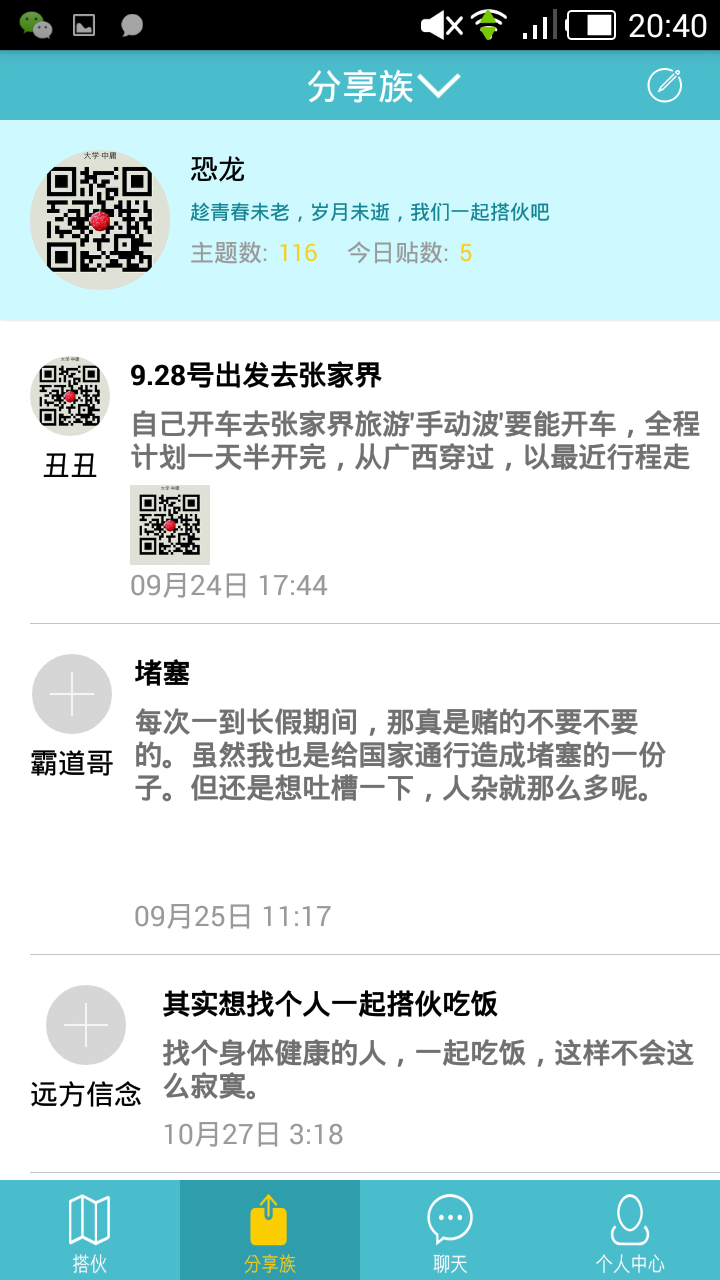imgbutton: (639, 64, 690, 110)
imgview: (21, 146, 175, 291)
nav: (15, 1176, 712, 1280)
textview: (11, 326, 720, 619)
